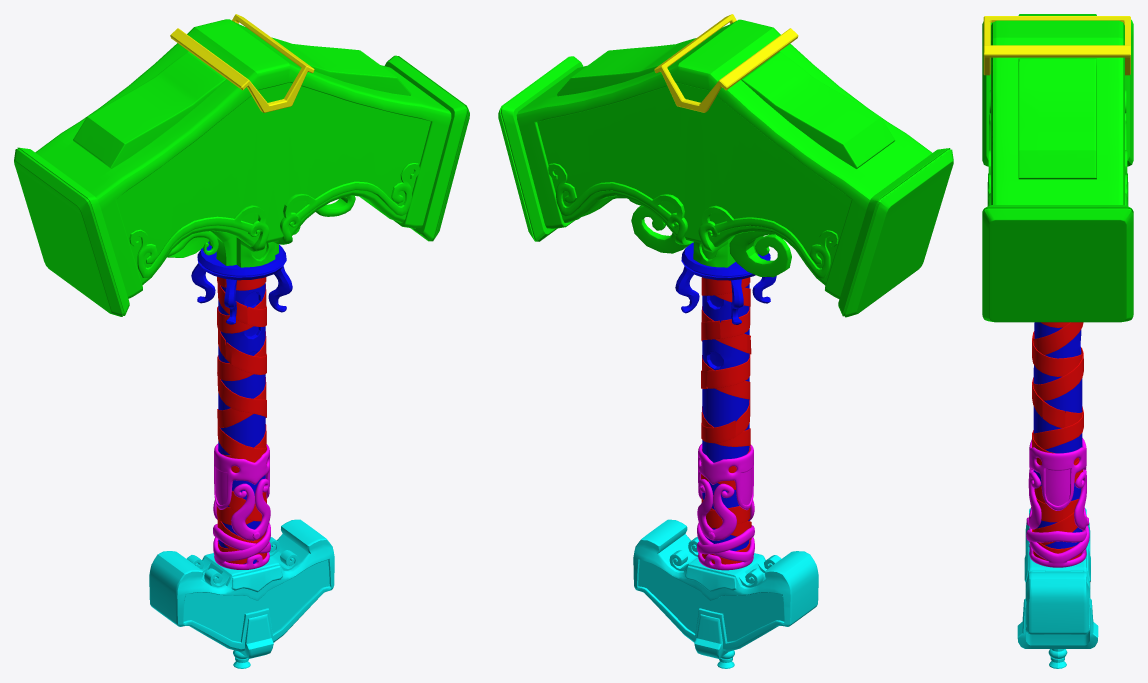
Rendered from MjolnirClassBase.obj.
3 renders of one model, left to right at view 1: azimuth 30°, elevation 25°; view 2: azimuth 150°, elevation 25°; view 3: azimuth 270°, elevation 25°, orthographic. The views are drawn at different scales.
Visible parts, largest first — view 1: Mjolnir_Geo_Grp HammerHead_Geo, Mjolnir_Geo_Grp But_Geo, Mjolnir_Geo_Grp Handle_Geo, Wraps_Geo Mjolnir_Geo_Grp, Mjolnir_Geo_Grp BaseHanleMetal_Geo, Mjolnir_Geo_Grp HeadBrace_Geo; view 2: Mjolnir_Geo_Grp HammerHead_Geo, Mjolnir_Geo_Grp But_Geo, Mjolnir_Geo_Grp Handle_Geo, Wraps_Geo Mjolnir_Geo_Grp, Mjolnir_Geo_Grp BaseHanleMetal_Geo, Mjolnir_Geo_Grp HeadBrace_Geo; view 3: Mjolnir_Geo_Grp HammerHead_Geo, Mjolnir_Geo_Grp But_Geo, Wraps_Geo Mjolnir_Geo_Grp, Mjolnir_Geo_Grp BaseHanleMetal_Geo, Mjolnir_Geo_Grp HeadBrace_Geo, Mjolnir_Geo_Grp Handle_Geo.
Part boxes in pixels (x1,y1,x2,y2): Mjolnir_Geo_Grp HammerHead_Geo: (14, 19, 469, 316); Mjolnir_Geo_Grp But_Geo: (149, 519, 334, 668); Mjolnir_Geo_Grp Handle_Geo: (191, 241, 292, 564); Wraps_Geo Mjolnir_Geo_Grp: (216, 276, 266, 564); Mjolnir_Geo_Grp BaseHanleMetal_Geo: (213, 443, 270, 569); Mjolnir_Geo_Grp HeadBrace_Geo: (170, 14, 314, 112); Mjolnir_Geo_Grp HammerHead_Geo: (498, 19, 953, 317); Mjolnir_Geo_Grp But_Geo: (633, 519, 818, 668); Mjolnir_Geo_Grp Handle_Geo: (675, 242, 776, 551); Wraps_Geo Mjolnir_Geo_Grp: (701, 277, 751, 564); Mjolnir_Geo_Grp BaseHanleMetal_Geo: (697, 443, 754, 570); Mjolnir_Geo_Grp HeadBrace_Geo: (654, 14, 798, 112); Mjolnir_Geo_Grp HammerHead_Geo: (982, 14, 1133, 322); Mjolnir_Geo_Grp But_Geo: (1017, 508, 1098, 668); Wraps_Geo Mjolnir_Geo_Grp: (1032, 322, 1083, 560); Mjolnir_Geo_Grp BaseHanleMetal_Geo: (1026, 438, 1089, 567); Mjolnir_Geo_Grp HeadBrace_Geo: (983, 16, 1130, 75); Mjolnir_Geo_Grp Handle_Geo: (1033, 322, 1082, 548).
Size of the model in its own units: 36.19 by 54.82 by 11.83.
